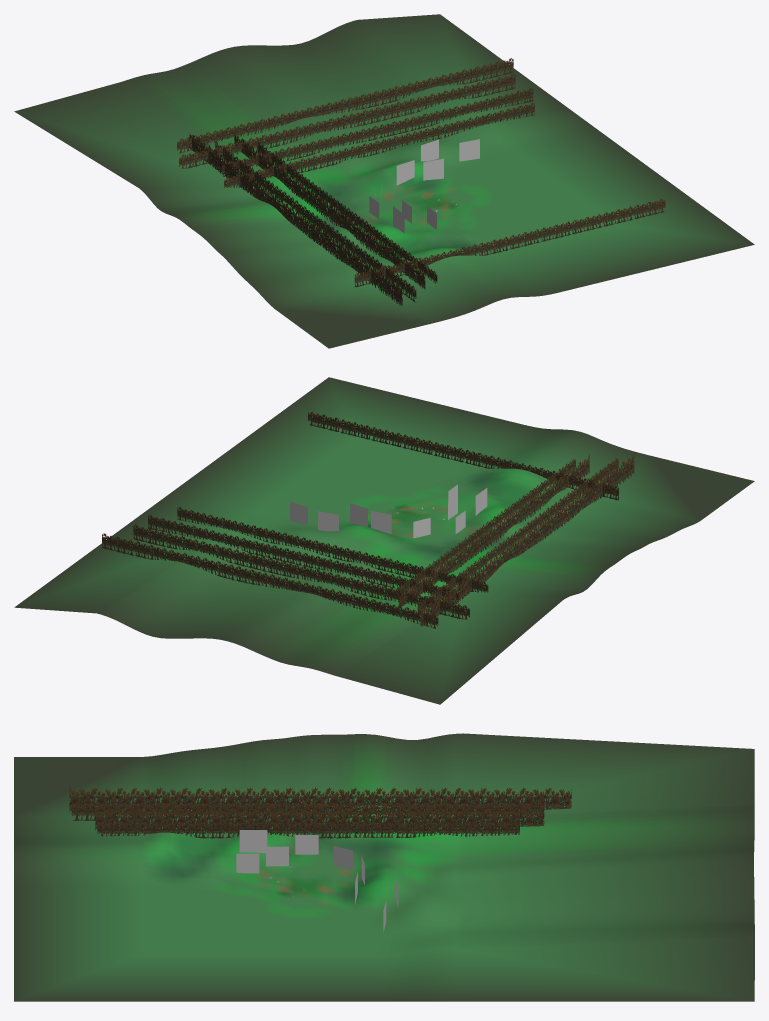
File: Outside.fbx
3 views of the same model, one above another, from view 1: azimuth 30°, elevation 25°; view 2: azimuth 150°, elevation 25°; view 3: azimuth 270°, elevation 25° (orthographic). The views are drawn at different scales.
Parts seen in each view (by area): view 1: Outside Elements; view 2: Outside Elements; view 3: Outside Elements.
Part boxes in pixels (x1,y1,x2,y2): Outside Elements: (14,14,754,348); Outside Elements: (14,377,754,704); Outside Elements: (14,733,754,1001).
Bounding box in the file's own units: 178 × 18.87 × 227.
